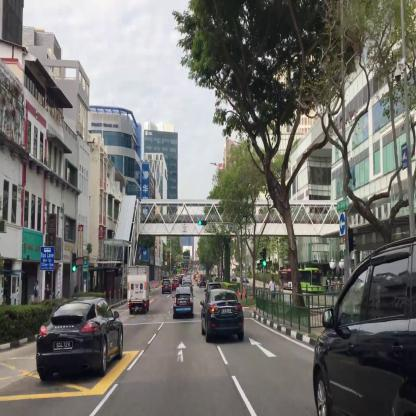green_traffic_light: (262, 250, 266, 266), (198, 220, 206, 226)
